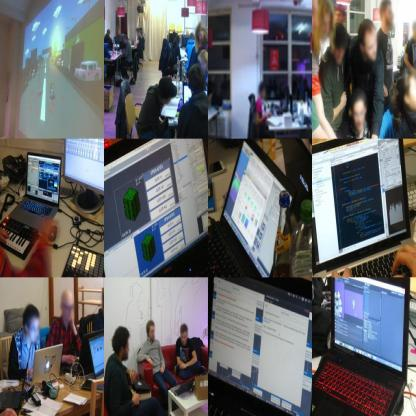board: (208, 278, 312, 416), (311, 138, 414, 274), (315, 268, 409, 412), (208, 136, 296, 273), (8, 152, 61, 235), (281, 135, 312, 212), (26, 340, 63, 383), (88, 330, 104, 385)
